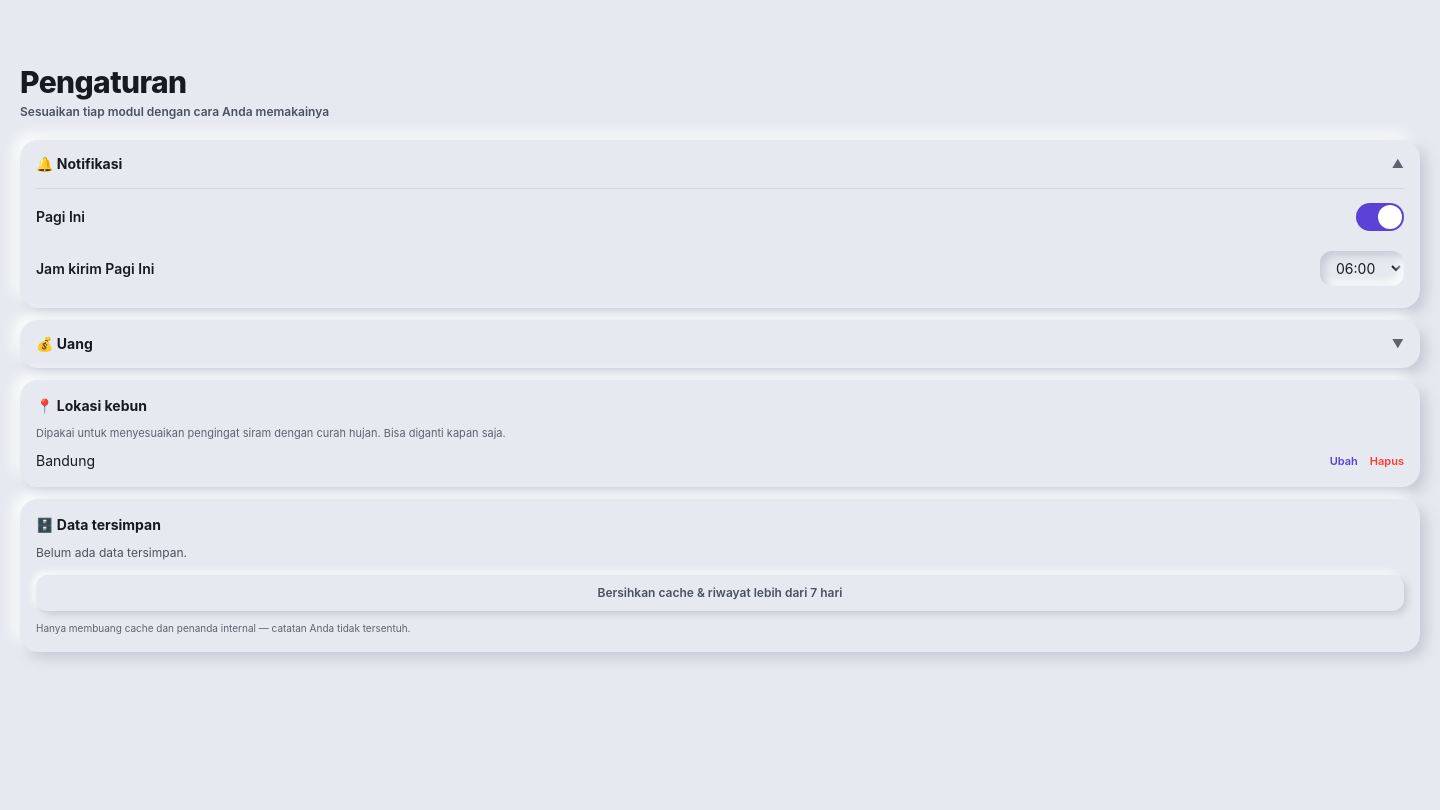
Test case: Pengaturan › menghapus lokasi kebun setelah konfirmasi
Click the button "Hapus" at (1387,461), box [1370,453,1404,469]
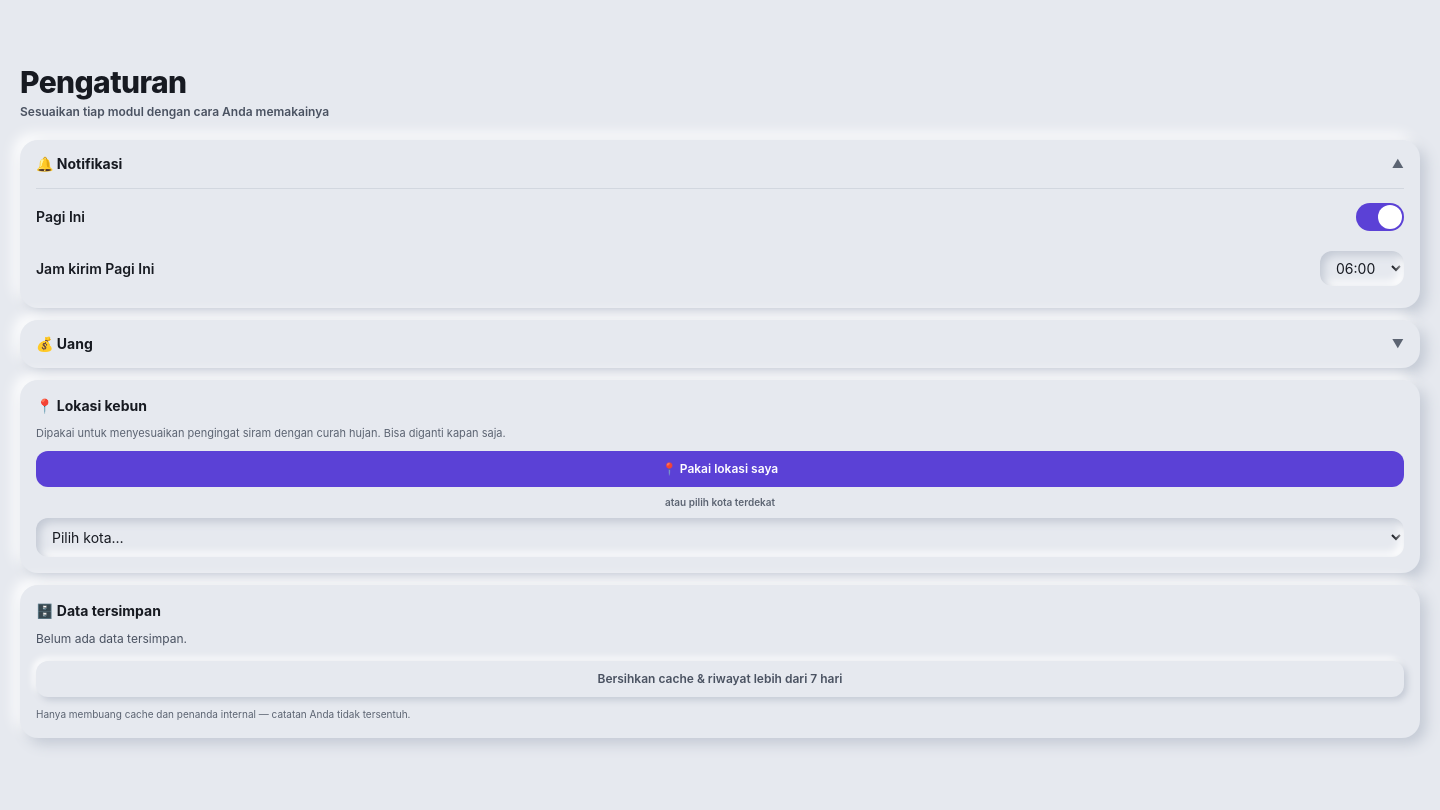
Result: the text "atau pilih kota terdekat" is shown at [665,496,775,508]
